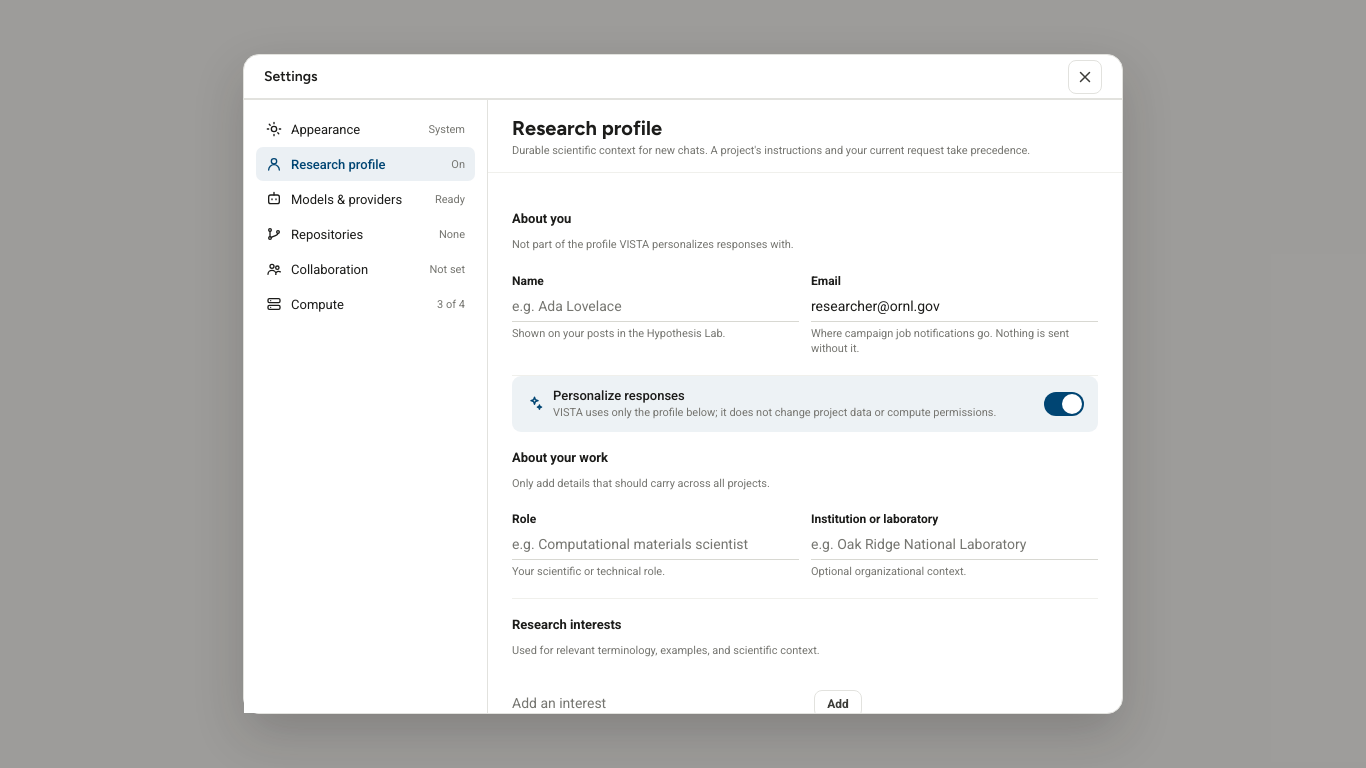
Test: UserSettingsModal collaboration › says no server is set, and why Publish and Import are off
What coordinates should you click on to do the following:
click the button "Collaboration Not set"
I would click on:
 (366, 269)
Its box is [256, 252, 475, 286].
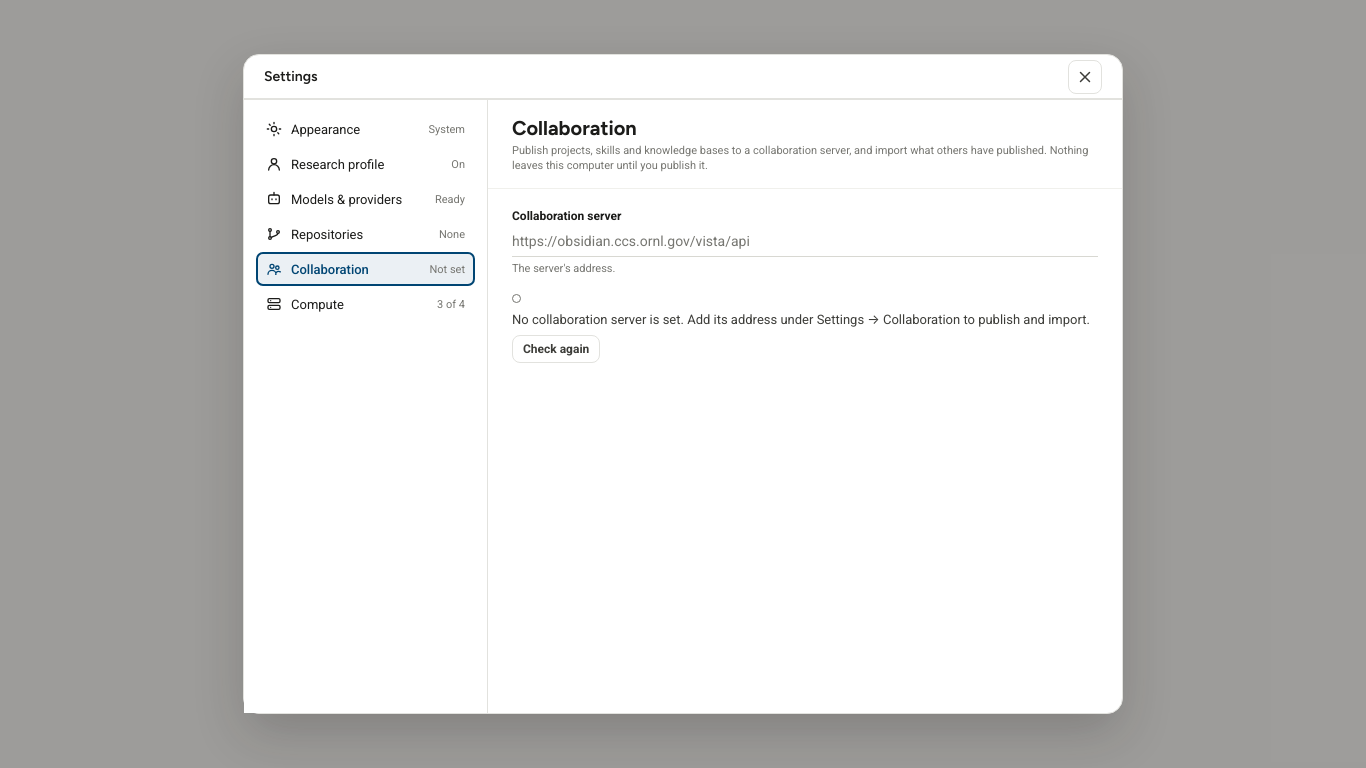
Check: the field labelled "Collaboration server The server's address." is empty, box [512, 227, 1098, 257]
Check: the element "Collaboration" shows "No collaboration server is set. Add its address under Settings → Collaboration to publish and import.", box [512, 312, 1090, 327]
